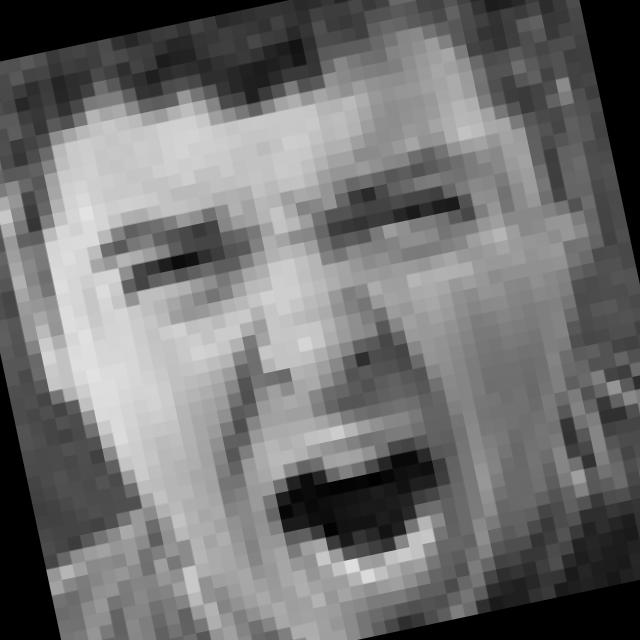angry: (88, 135, 569, 640)
